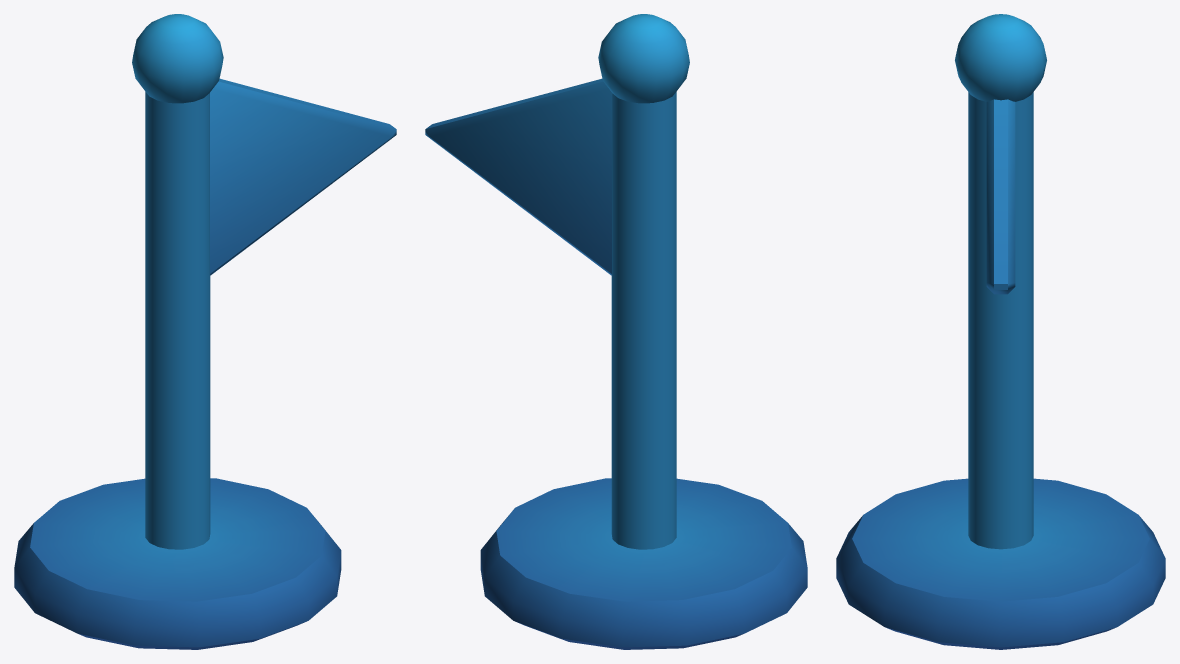
The model's file is flag-a-blue.glb.
3 views of the same model, side by side, from view 1: azimuth 30°, elevation 25°; view 2: azimuth 150°, elevation 25°; view 3: azimuth 270°, elevation 25° (orthographic).
Visible parts, largest first — view 1: flag_A_blue; view 2: flag_A_blue; view 3: flag_A_blue.
Part boxes in pixels (box(x1,y1,x2,y2)): flag_A_blue: box(14, 14, 396, 649); flag_A_blue: box(425, 14, 807, 649); flag_A_blue: box(836, 14, 1165, 649).
Size of the model in its own units: 0.9404 by 1.43 by 0.75.
Materials: 1 (1 with a texture image).
